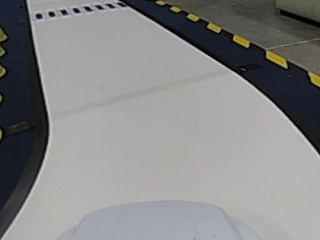crosswalk: (32, 1, 125, 19)
